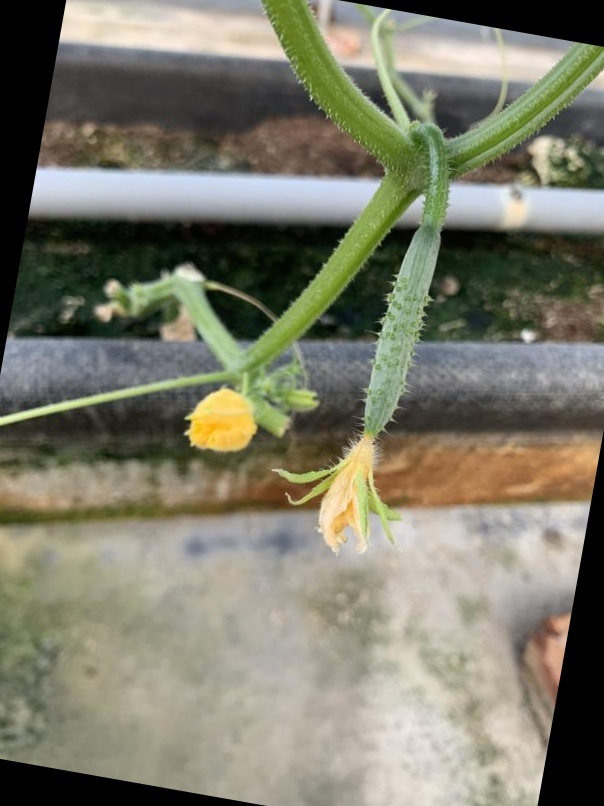bear: (282, 203, 460, 562)
